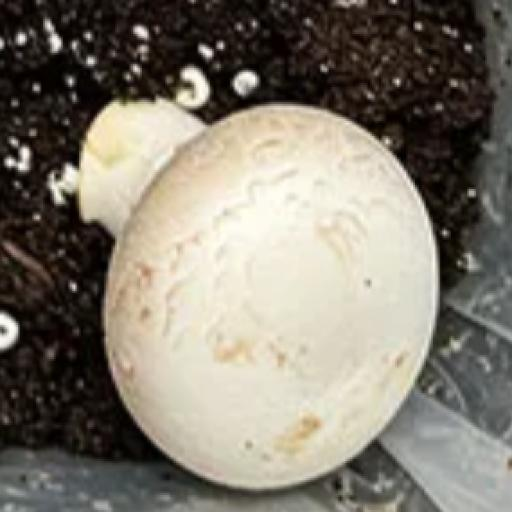Button Mushroom: (71, 79, 446, 487)
